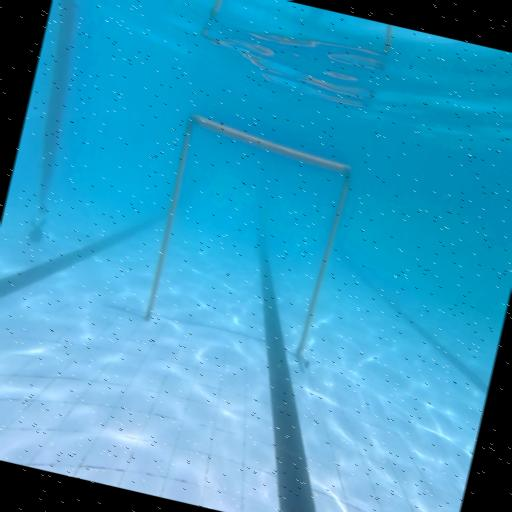gate: (141, 114, 358, 367)
